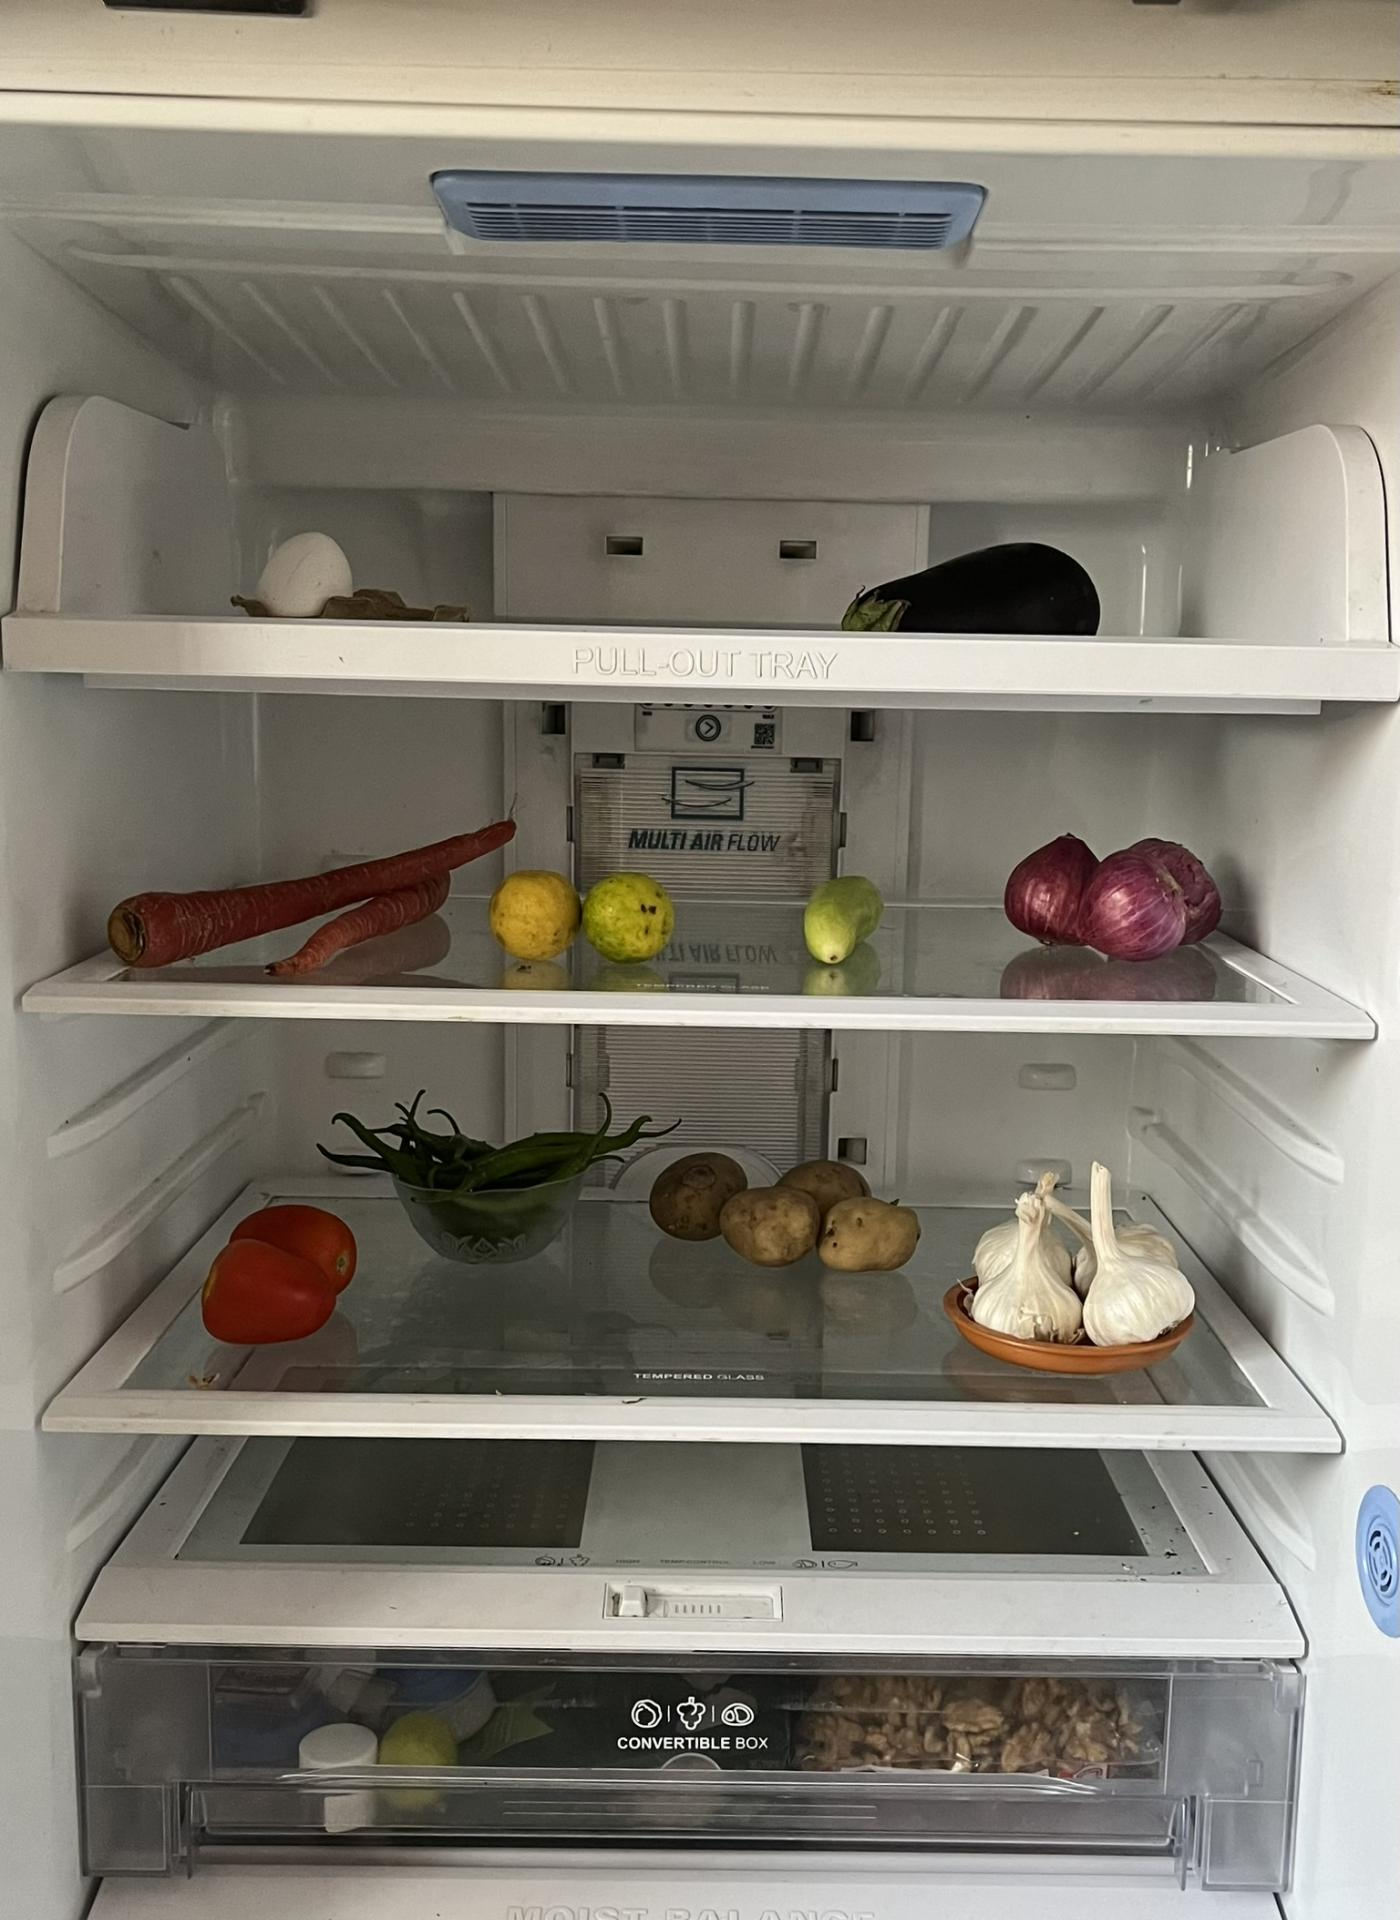carrots: (106, 803, 522, 981)
chillies: (310, 1084, 674, 1294)
cucumber: (793, 872, 896, 959)
egg: (243, 522, 371, 616)
garlic: (969, 1157, 1206, 1362)
lemon: (486, 866, 684, 969)
onion: (1005, 818, 1227, 956)
potato: (641, 1149, 927, 1280)
tomato: (203, 1200, 367, 1348)
